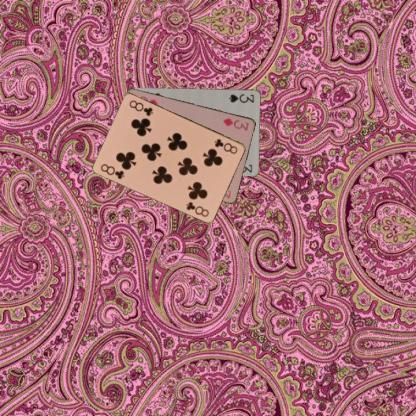3d: (221, 115, 250, 132)
3s: (226, 90, 255, 104)
8c: (98, 161, 126, 180), (212, 136, 239, 155)
